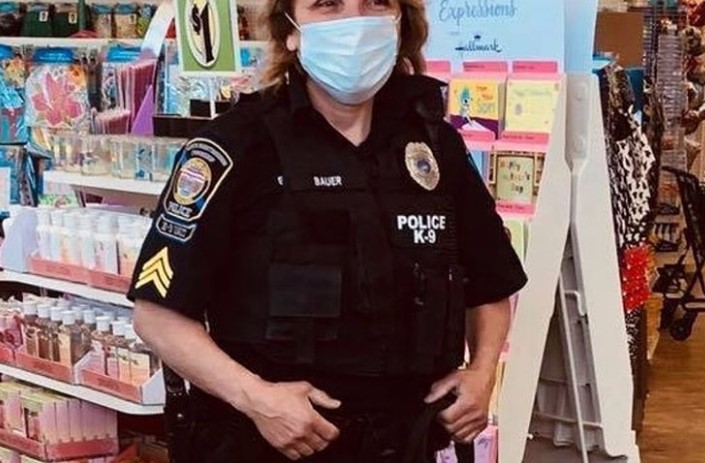face_with_mask: (269, 0, 421, 109)
